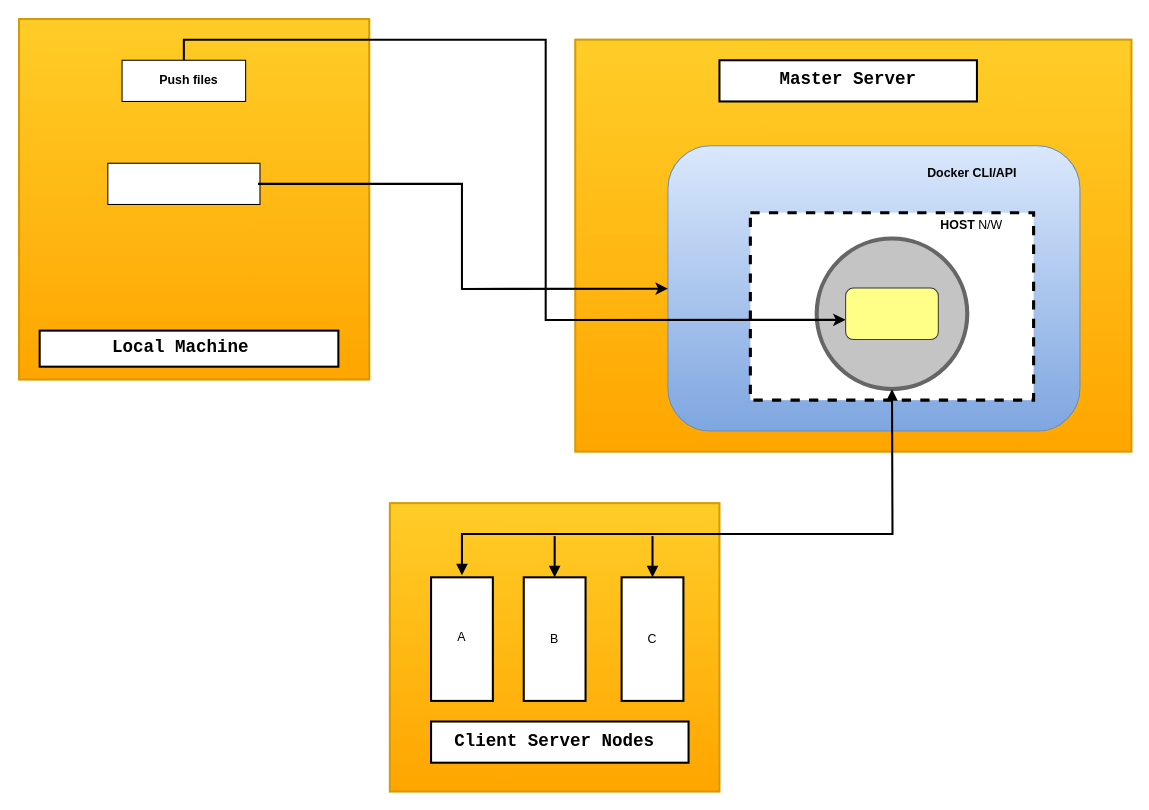
Some shapes in this 1149 by 810 pixel diagram are drawn without their labels. The centre of each missing label's shape, as x and y in pixels:
"Create/Build Container" belongs at pixel 183 183.
"Flask API" belongs at pixel 891 313.
